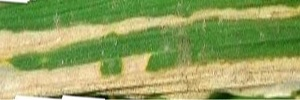RiceBacterialBlight: (2, 5, 300, 90)
